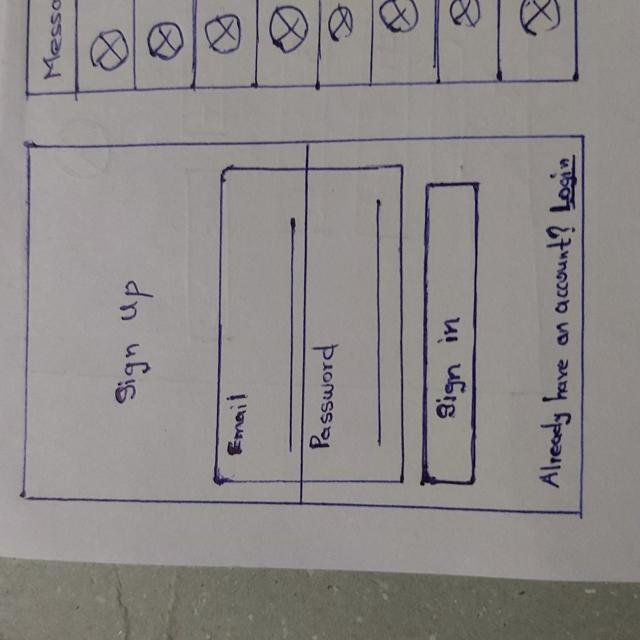Button: (420, 175, 481, 493)
CardView: (212, 163, 407, 487)
EditText: (310, 196, 390, 462), (226, 207, 299, 469)
MainLayout: (22, 134, 587, 519)
TextView: (536, 224, 574, 493), (111, 273, 154, 406), (549, 151, 578, 218)
